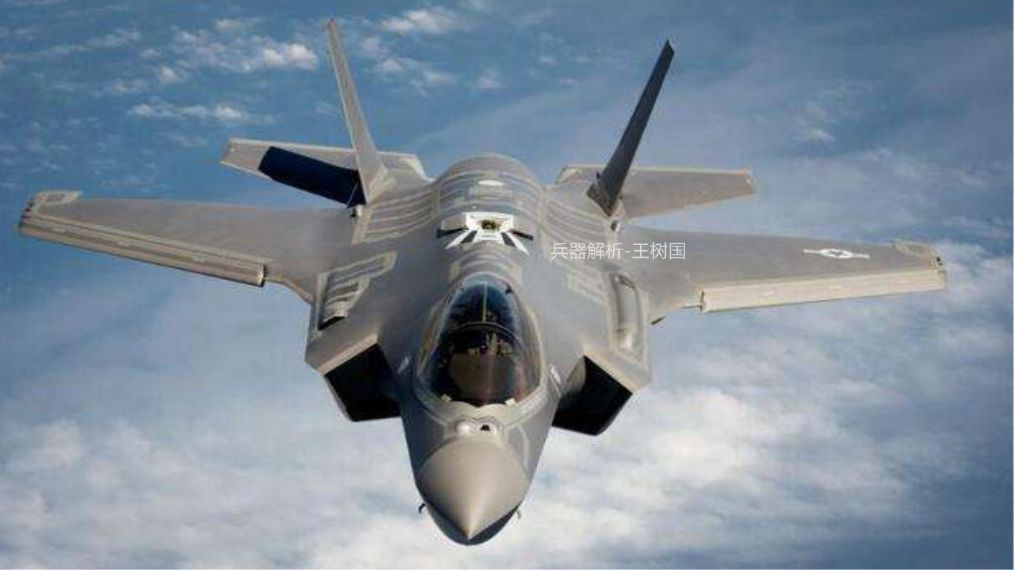airplane: (19, 16, 950, 550)
